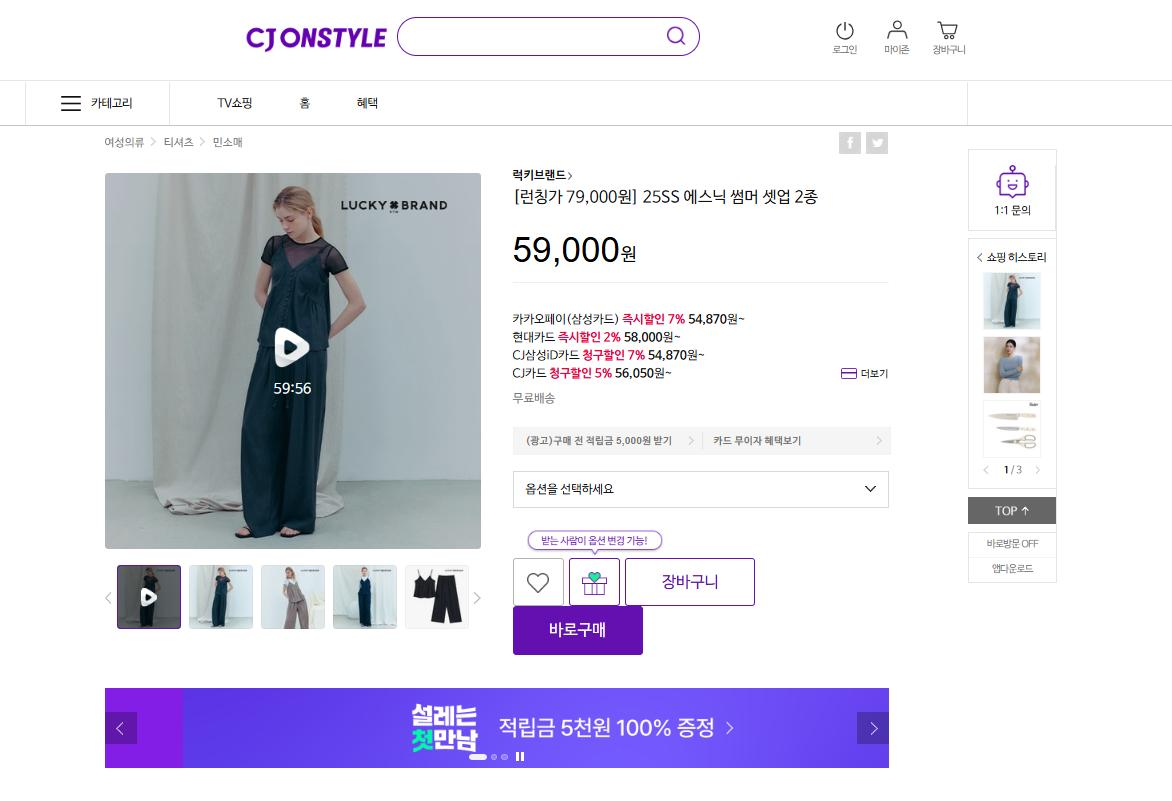button: (970, 132, 1063, 230), (628, 561, 768, 608), (520, 607, 646, 659), (518, 430, 706, 453), (714, 430, 888, 449), (966, 498, 1064, 529), (928, 7, 976, 67), (567, 560, 622, 607), (830, 353, 903, 387), (517, 556, 566, 606), (350, 84, 406, 126), (879, 9, 920, 63), (827, 12, 870, 63), (977, 559, 1063, 583), (211, 90, 271, 123), (283, 98, 331, 128), (973, 534, 1057, 549), (509, 167, 577, 182), (104, 716, 142, 739), (863, 132, 892, 157), (862, 716, 888, 741), (840, 133, 866, 158)
checkbox: (512, 472, 891, 511), (21, 82, 170, 130)
input_field: (390, 14, 701, 58)
popup: (106, 691, 884, 768)
